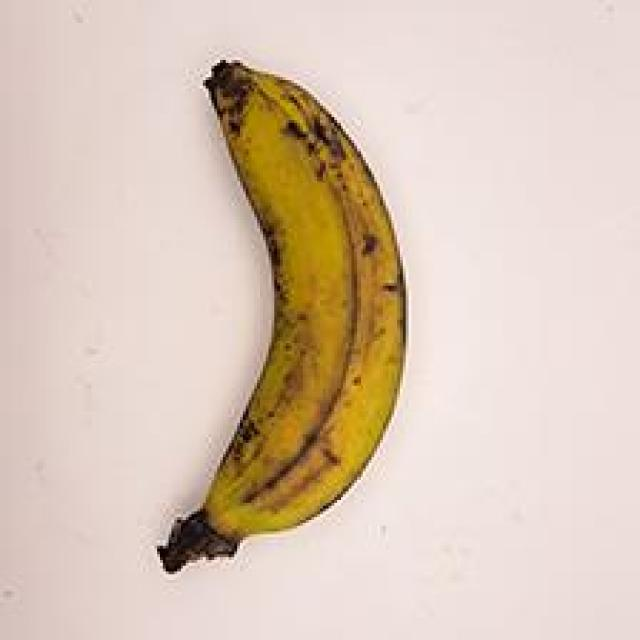Overripe: (128, 52, 437, 600)
